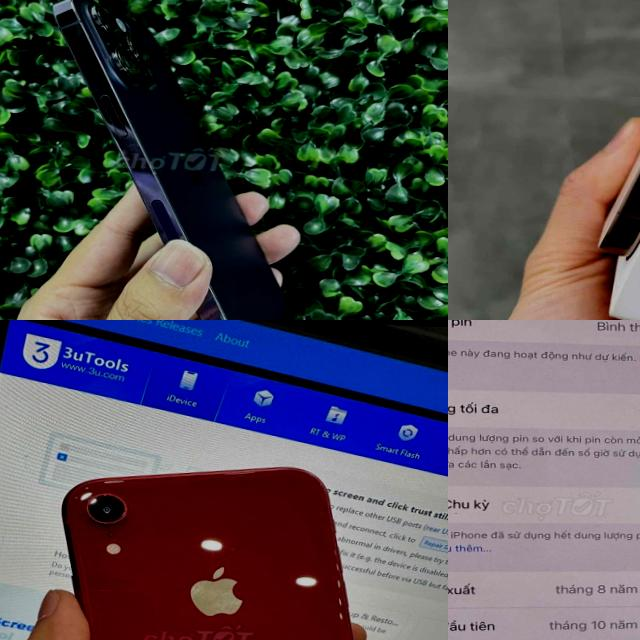scratch: (160, 511, 253, 586), (98, 490, 114, 500), (116, 507, 128, 518)
